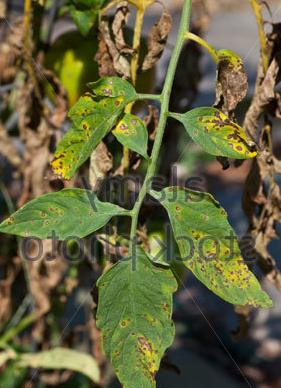Tomato Septoria leaf spot: (163, 179, 276, 316), (87, 238, 181, 388), (41, 68, 143, 177), (0, 179, 121, 253), (166, 102, 262, 165)
